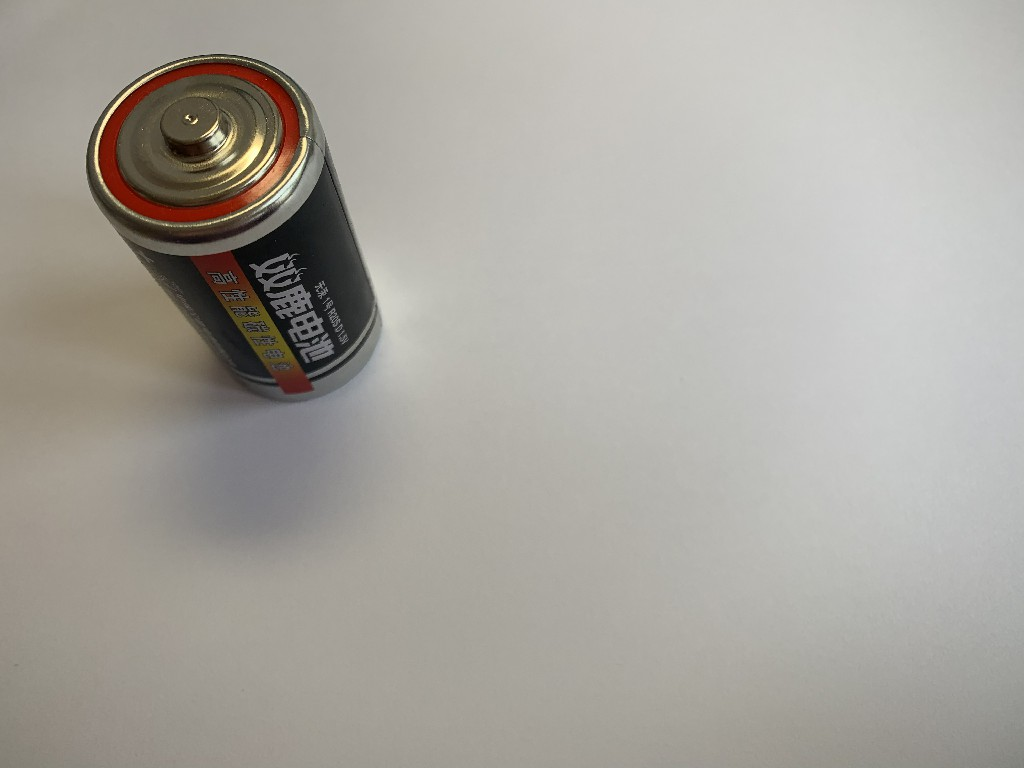charge: (81, 46, 392, 413)
